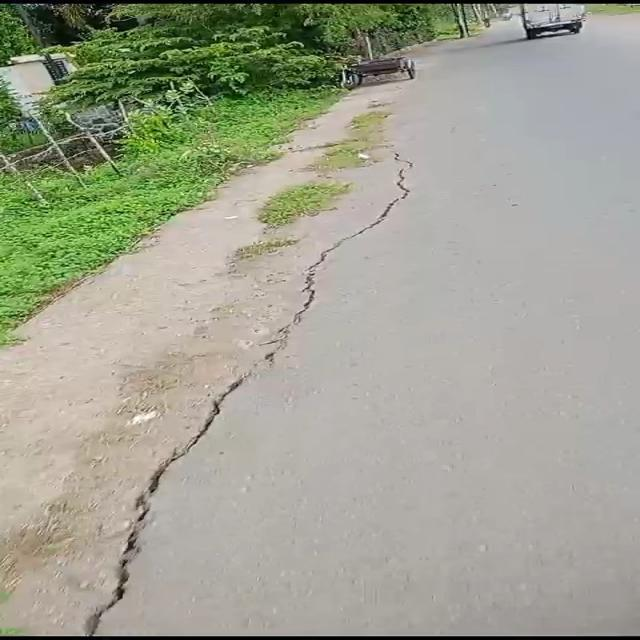Memanjang: (66, 143, 417, 638)
